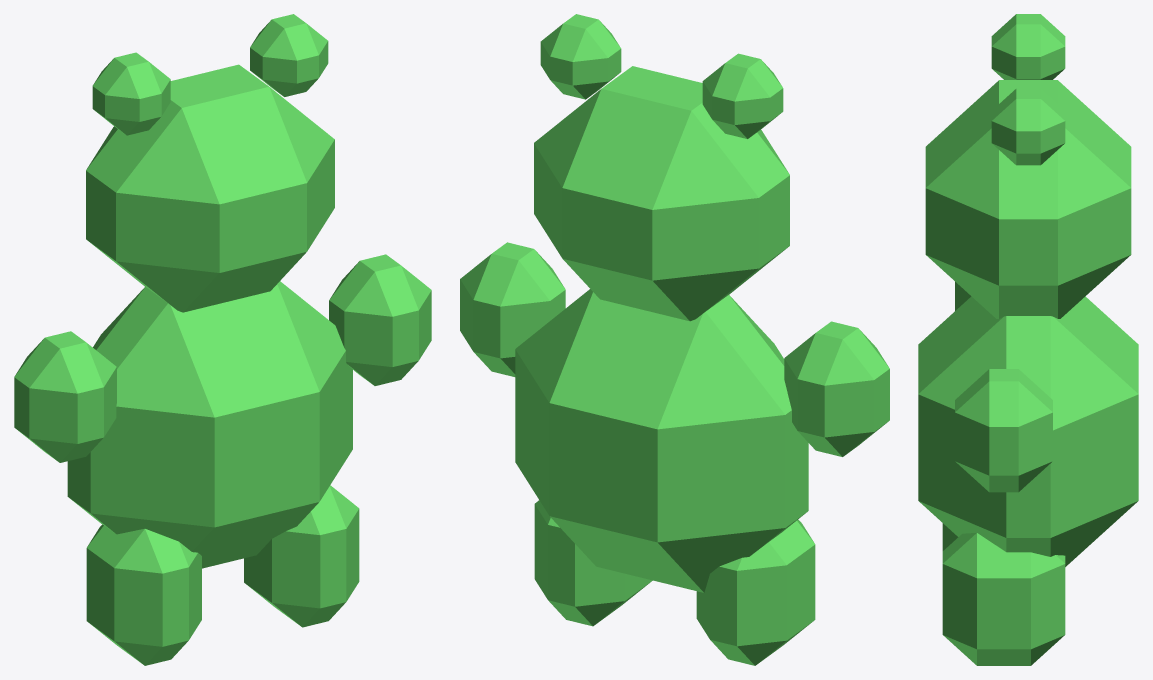
The model's file is GummyBear.fbx.
The picture shows the model from 3 angles, left to right: view 1: azimuth 30°, elevation 25°; view 2: azimuth 150°, elevation 25°; view 3: azimuth 270°, elevation 25°; orthographic projection. The views are drawn at different scales.
Visible parts, largest first — view 1: GummyBear; view 2: GummyBear; view 3: GummyBear.
Boxes of the visible parts, x1=… form: GummyBear: x1=14, y1=14, x2=431, y2=665; GummyBear: x1=460, y1=14, x2=889, y2=665; GummyBear: x1=918, y1=14, x2=1138, y2=665.
Size of the model in its own units: 0.92 by 1.27 by 0.45.
Materials: 1 (1 with a texture image).
